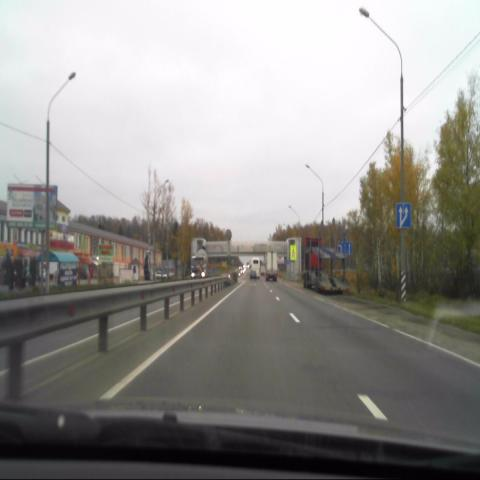5_15_1: (337, 241, 351, 254)
5_15_3: (396, 203, 410, 228)
